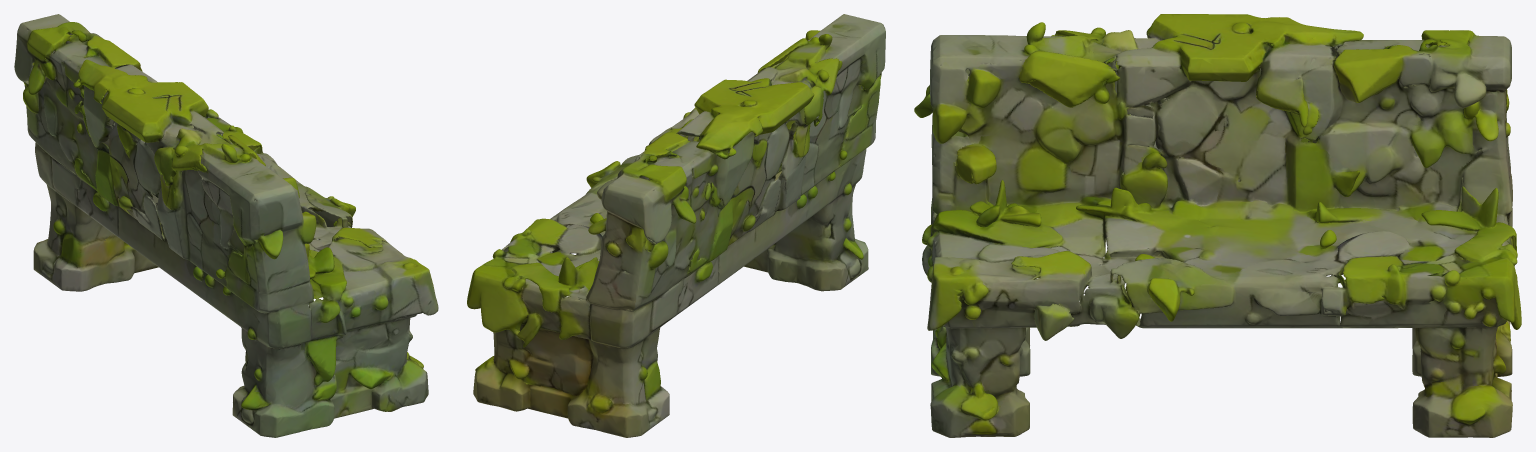
Rendered from ruin_bench.glb.
3 renders of one model, left to right at view 1: azimuth 30°, elevation 25°; view 2: azimuth 150°, elevation 25°; view 3: azimuth 270°, elevation 25°, orthographic. The views are drawn at different scales.
Parts seen in each view (by area): view 1: tripo_node_ad782051-d706-4977-a4d5-e76879dd29b9; view 2: tripo_node_ad782051-d706-4977-a4d5-e76879dd29b9; view 3: tripo_node_ad782051-d706-4977-a4d5-e76879dd29b9.
Boxes of the visible parts, x1,y1,x2,y2 form: tripo_node_ad782051-d706-4977-a4d5-e76879dd29b9: [14, 14, 438, 437]; tripo_node_ad782051-d706-4977-a4d5-e76879dd29b9: [467, 14, 885, 437]; tripo_node_ad782051-d706-4977-a4d5-e76879dd29b9: [914, 14, 1521, 437].
Size of the model in its own units: 0.5084 by 0.5859 by 1.
Materials: 1 (1 with a texture image).
